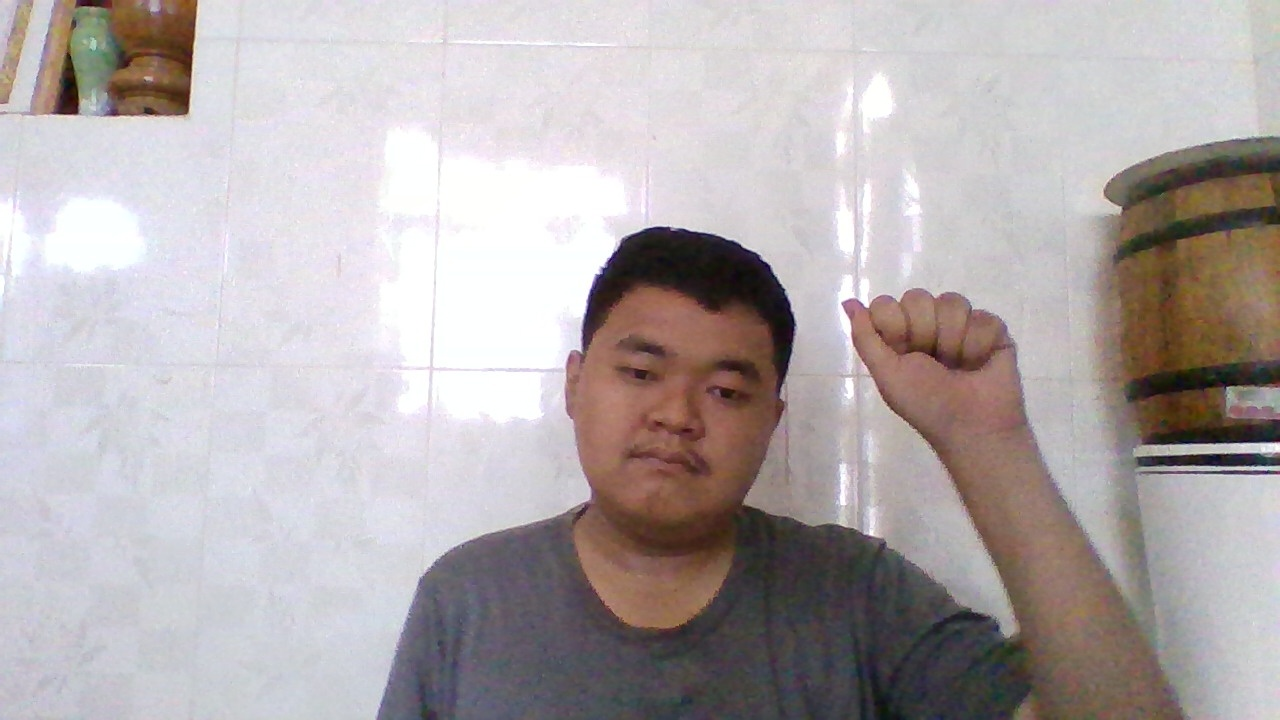A: (835, 278, 1008, 442)
